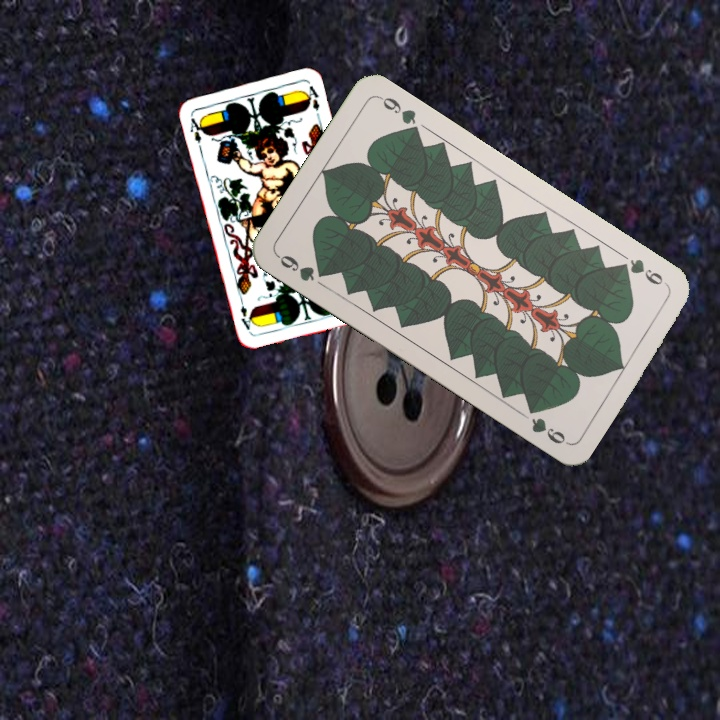EA: (186, 114, 207, 146)
G9: (273, 250, 331, 284), (613, 254, 666, 288)
